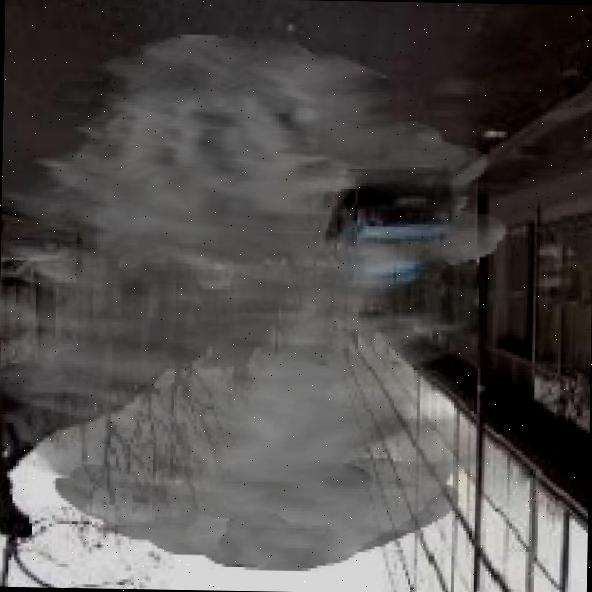smoke: (0, 26, 512, 575)
